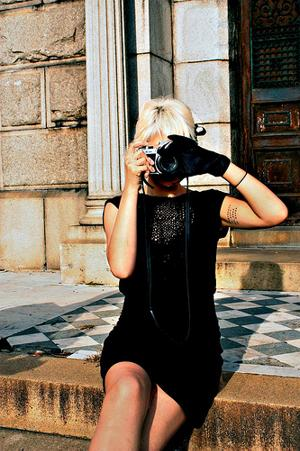person: (90, 95, 290, 451)
